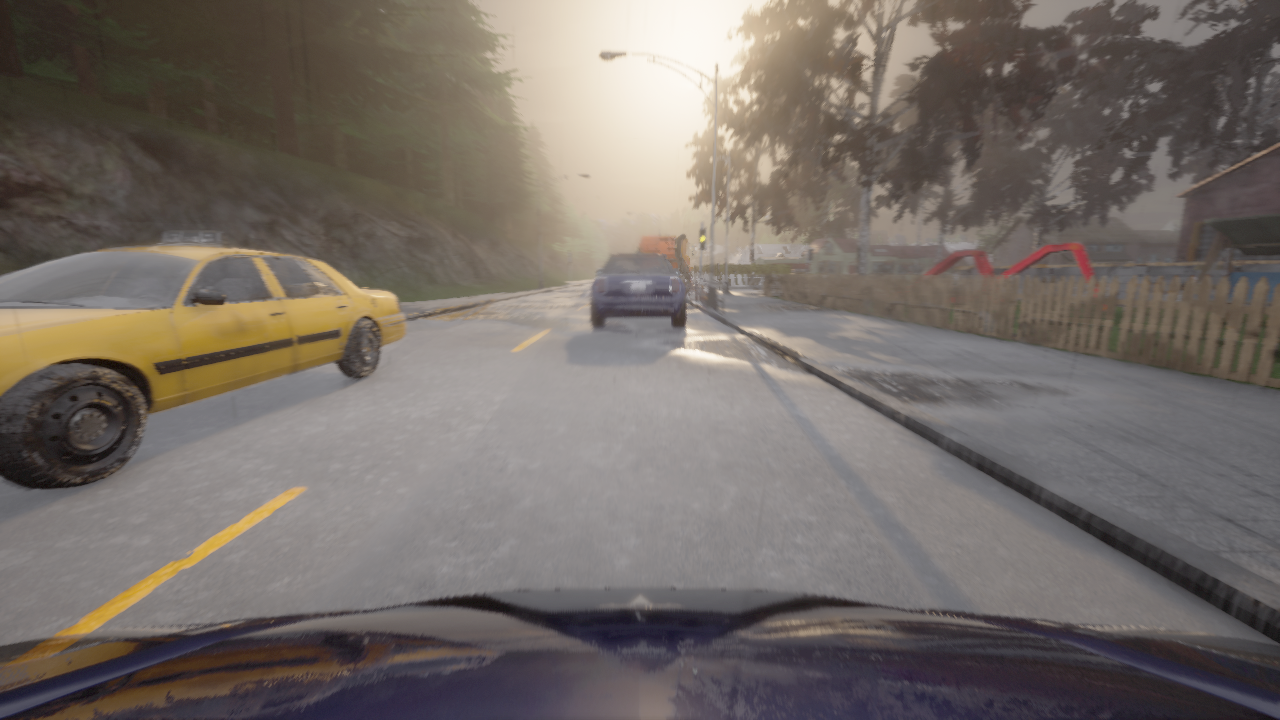cyclist: (0, 588, 1279, 719), (0, 231, 405, 489), (591, 252, 685, 326), (640, 233, 694, 293), (791, 269, 811, 279)
